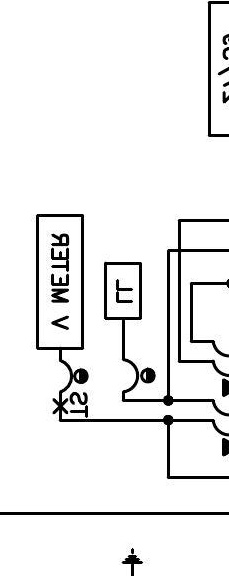LL: (103, 261, 143, 321)
v_m_digital: (35, 213, 85, 351)
